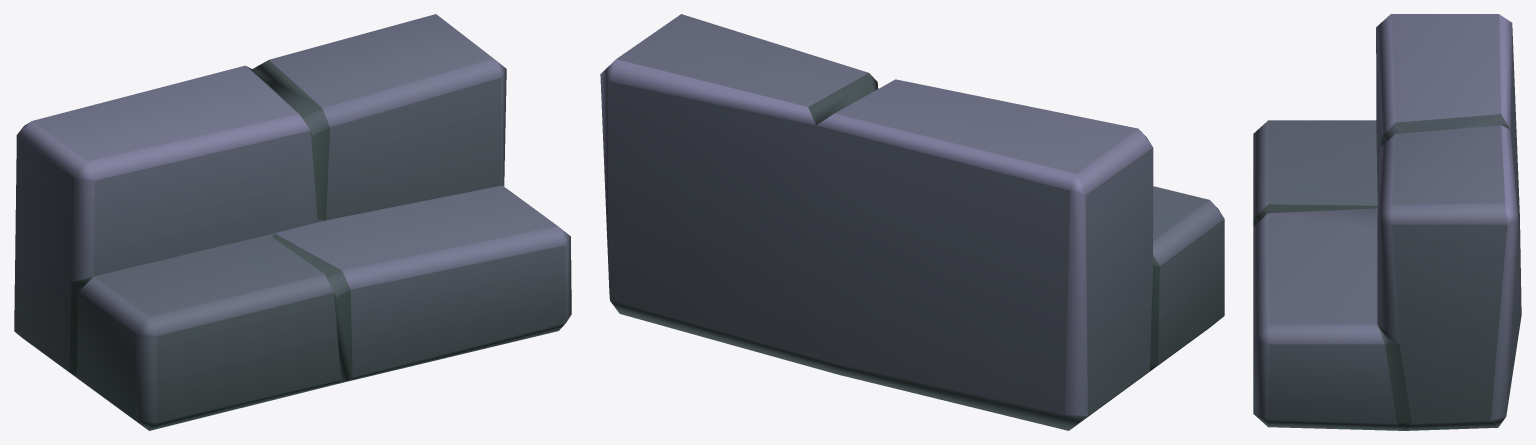
The model's file is undead_stairs_half_1_shade_2.fbx.
3 renders of one model, left to right at view 1: azimuth 30°, elevation 25°; view 2: azimuth 150°, elevation 25°; view 3: azimuth 270°, elevation 25°, orthographic. The views are drawn at different scales.
Visible parts, largest first — view 1: undead_stairs_half_1_shade_2; view 2: undead_stairs_half_1_shade_2; view 3: undead_stairs_half_1_shade_2.
Boxes of the visible parts, x1,y1,x2,y2 form: undead_stairs_half_1_shade_2: [14, 14, 571, 430]; undead_stairs_half_1_shade_2: [600, 14, 1224, 430]; undead_stairs_half_1_shade_2: [1253, 14, 1521, 430].
Size of the model in its own units: 1 by 0.5087 by 0.5457.
